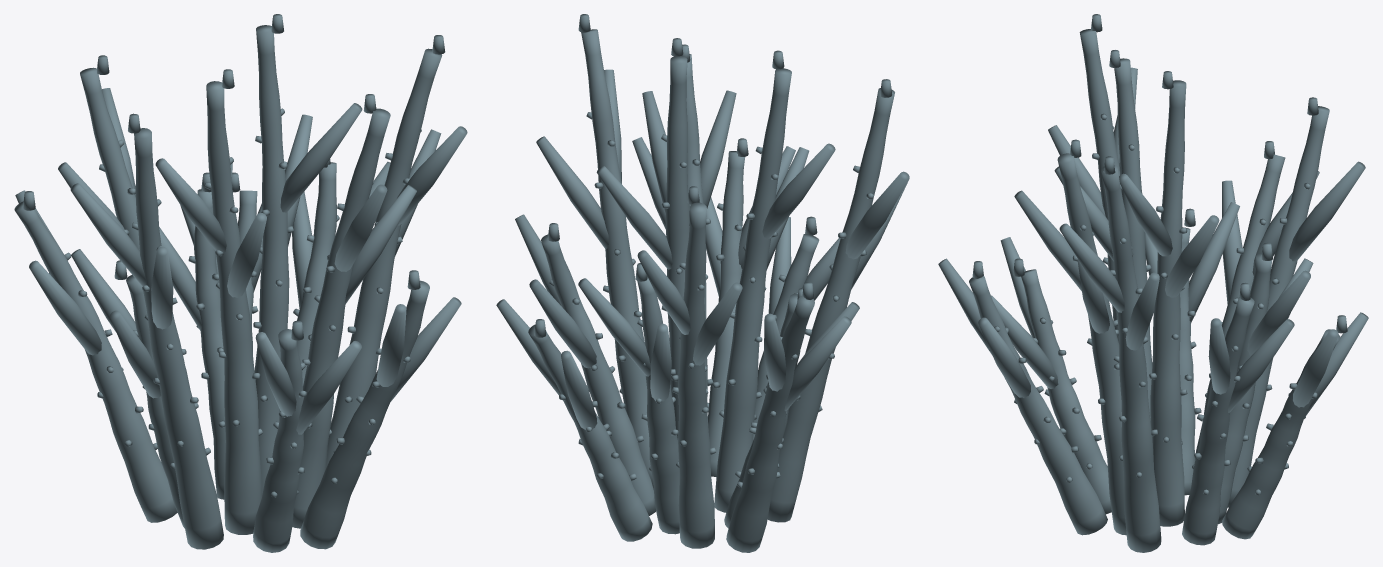
Rendered from acropora-desktop.glb.
3 renders of one model, left to right at view 1: azimuth 30°, elevation 25°; view 2: azimuth 150°, elevation 25°; view 3: azimuth 270°, elevation 25°, orthographic. The views are drawn at different scales.
Parts seen in each view (by area): view 1: branch, lateral-branch, radial-corallite, axial-corallite; view 2: branch, lateral-branch, radial-corallite, axial-corallite; view 3: branch, lateral-branch, radial-corallite, axial-corallite.
Boxes of the visible parts, x1,y1,x2,y2 form: branch: [14, 25, 442, 552]; lateral-branch: [15, 88, 467, 434]; radial-corallite: [49, 108, 421, 497]; axial-corallite: [23, 14, 445, 340]; branch: [528, 29, 894, 552]; lateral-branch: [496, 69, 909, 429]; radial-corallite: [549, 112, 873, 488]; axial-corallite: [534, 14, 892, 337]; branch: [969, 29, 1339, 552]; lateral-branch: [938, 67, 1368, 416]; radial-corallite: [988, 113, 1317, 495]; axial-corallite: [972, 14, 1347, 333].
Size of the model in its own units: 0.4732 by 0.591 by 0.5017.
